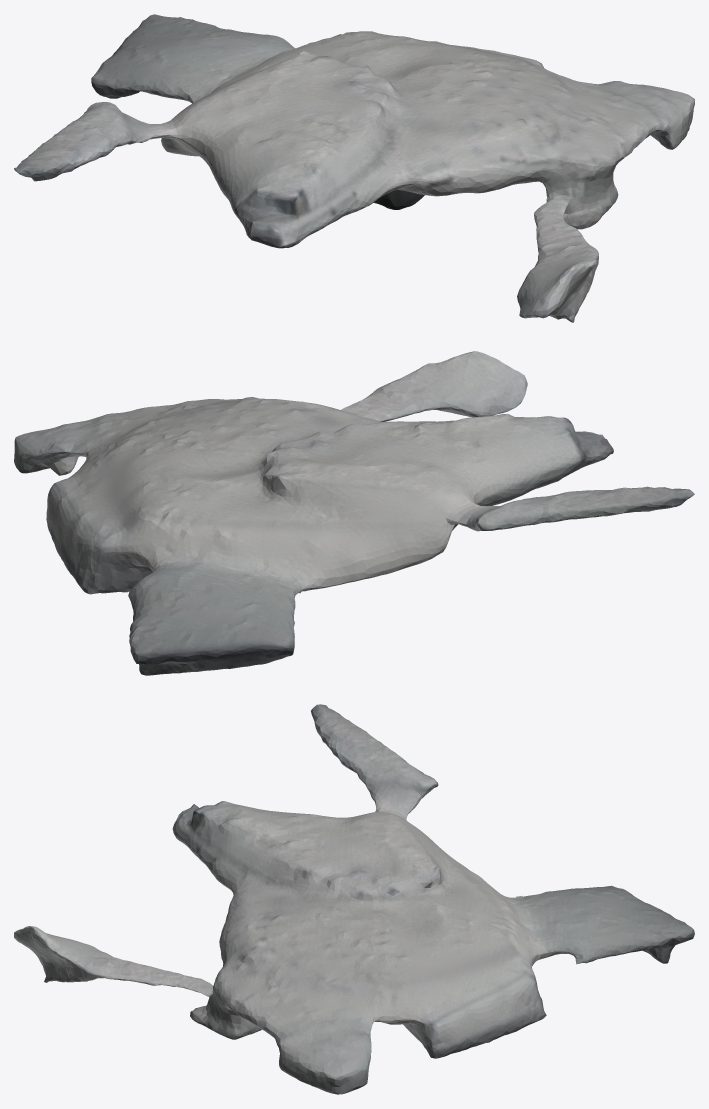
File: IMG_SEG_09.glb
3 renders of one model, top to bottom at view 1: azimuth 30°, elevation 25°; view 2: azimuth 150°, elevation 25°; view 3: azimuth 270°, elevation 25°, orthographic. The views are drawn at different scales.
Size of the model in its own units: 1.21 by 0.2248 by 1.21.
1 material, 1 textured.
